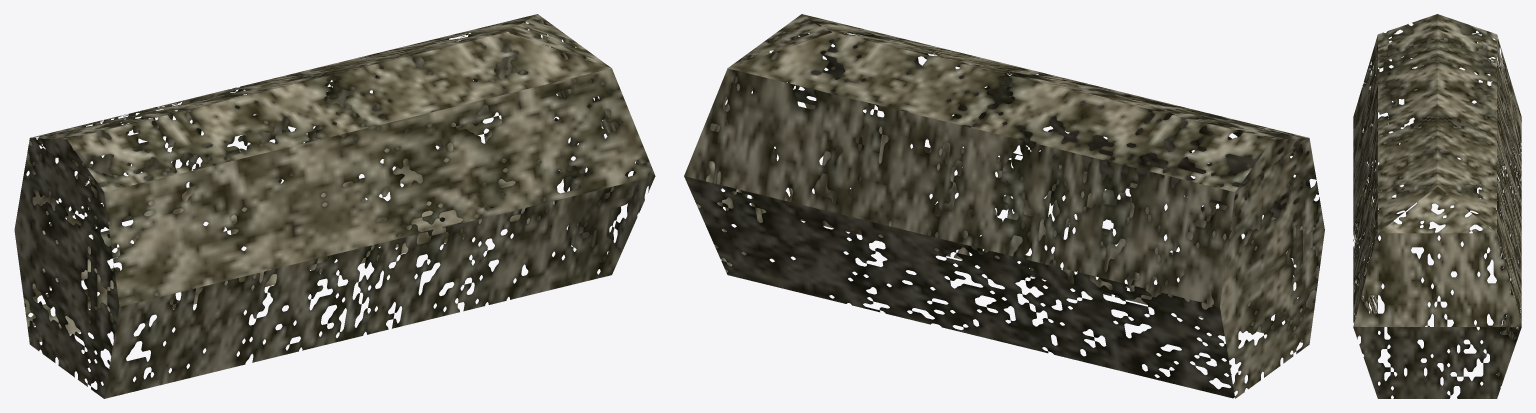
Rendered from bush_long_open_right_dead.fbx.
3 renders of one model, left to right at view 1: azimuth 30°, elevation 25°; view 2: azimuth 150°, elevation 25°; view 3: azimuth 270°, elevation 25°, orthographic. The views are drawn at different scales.
Visible parts, largest first — view 1: bush_long_open_right_dead; view 2: bush_long_open_right_dead; view 3: bush_long_open_right_dead.
Boxes of the visible parts, bbox=[...] form: bush_long_open_right_dead: bbox=[14, 14, 655, 398]; bush_long_open_right_dead: bbox=[684, 14, 1324, 398]; bush_long_open_right_dead: bbox=[1353, 14, 1521, 398].
Size of the model in its own units: 212 by 87.65 by 71.92.
Materials: 1 (1 with a texture image).
